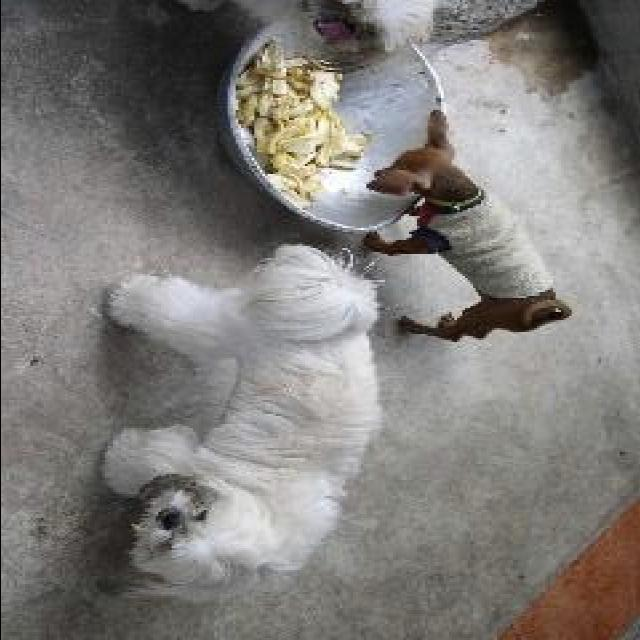shih_tzu: (99, 236, 381, 604)
